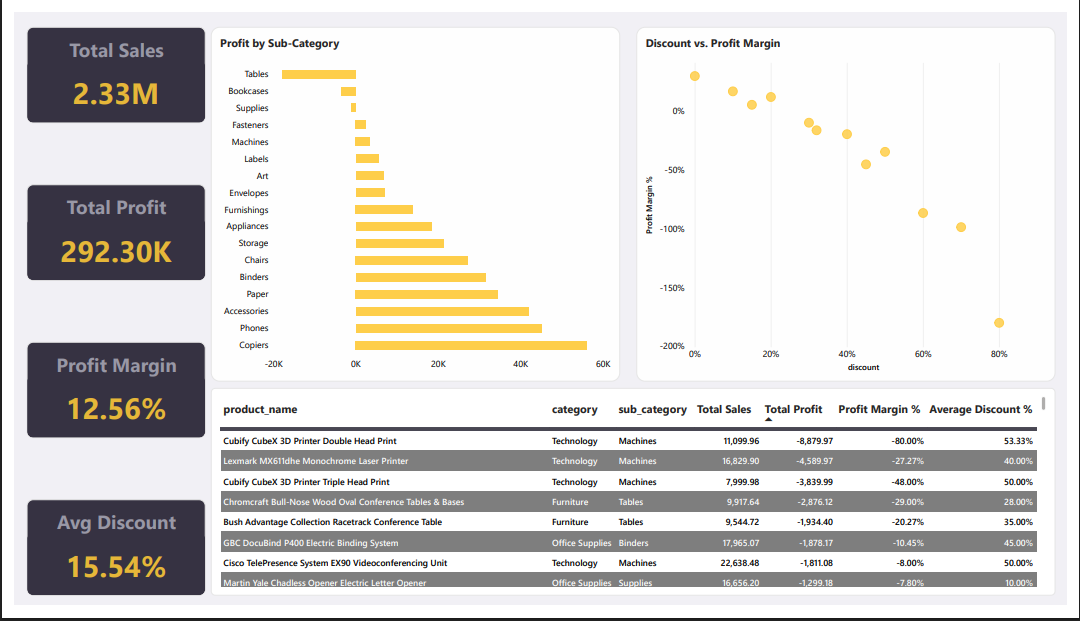

The dashboard page shown, as its layout file describes it:
{"tool":"powerbi","page":{"name":"Profitability Analysis","canvas":[1920,1080],"ordinal":1},"visuals":[{"type":"cardVisual","title":"Total Sales","fields":{"Data":["Measure.Total Sales"]},"box":[22.7,26.8,326.2,175.5],"z":0},{"type":"cardVisual","title":"Total Profit","fields":{"Data":["Measure.Total Profit"]},"box":[22.7,313.8,326.2,175.5],"z":1000},{"type":"cardVisual","title":"Profit Margin","fields":{"Data":["Measure.Profit Margin %"]},"box":[22.7,600.8,326.2,175.5],"z":2000},{"type":"cardVisual","title":"Avg Discount","fields":{"Data":["Measure.Average Discount %"]},"box":[22.7,887.7,326.2,175.5],"z":3000},{"type":"clusteredBarChart","title":"Profit by Sub-Category","fields":{"Category":["superstore_sales.sub_category"],"Y":["Measure.Total Profit"]},"box":[359.2,26.8,745.3,646.2],"z":4000},{"type":"scatterChart","title":"Discount vs. Profit Margin","fields":{"X":["superstore_sales.discount"],"Y":["Measure.Profit Margin %"]},"box":[1135.5,26.8,763.9,646.2],"z":5000},{"type":"tableEx","fields":{"Values":["superstore_sales.product_name","superstore_sales.category","superstore_sales.sub_category","Measure.Total Sales","Measure.Total Profit","Measure.Profit Margin %","Measure.Average Discount %"]},"box":[359.2,685.4,1540.1,377.8],"z":6000}]}

Visuals, with their boxes in screenshot pixels (x1, y1, x2, y2), scaled from the page's 1920x1080 canvas onto the 1080x621 screenshot:
"Total Sales" cardVisual: 13 15 196 116
"Total Profit" cardVisual: 13 180 196 281
"Profit Margin" cardVisual: 13 345 196 446
"Avg Discount" cardVisual: 13 510 196 611
"Profit by Sub-Category" clusteredBarChart: 202 15 621 387
"Discount vs. Profit Margin" scatterChart: 639 15 1068 387
tableEx - superstore_sales.product_name x superstore_sales.category: 202 394 1068 611
